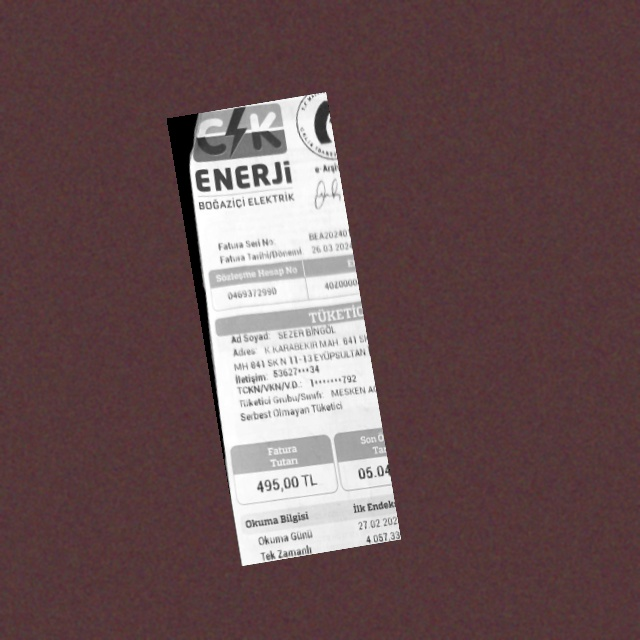electricity-bill: (167, 91, 401, 565)
